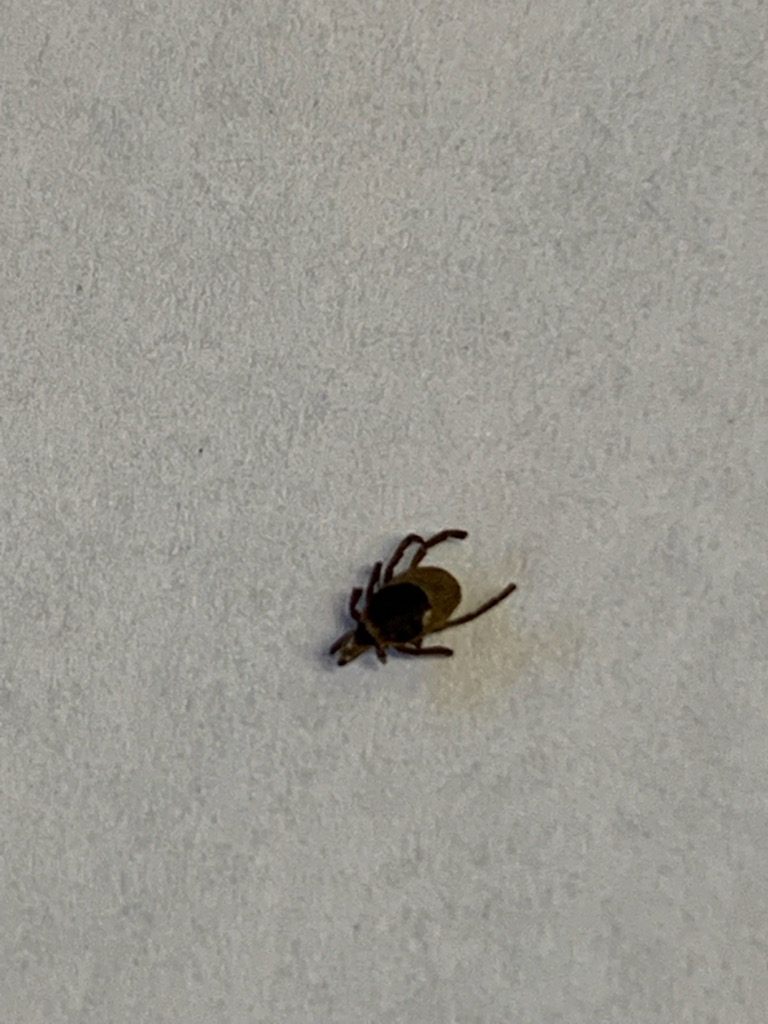unlabelled_tick: (319, 521, 526, 674)
